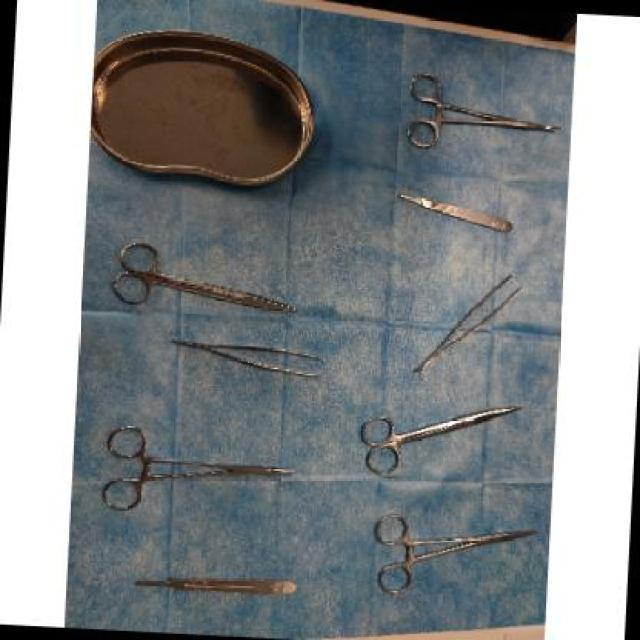Monitor: (76, 0, 566, 620)
